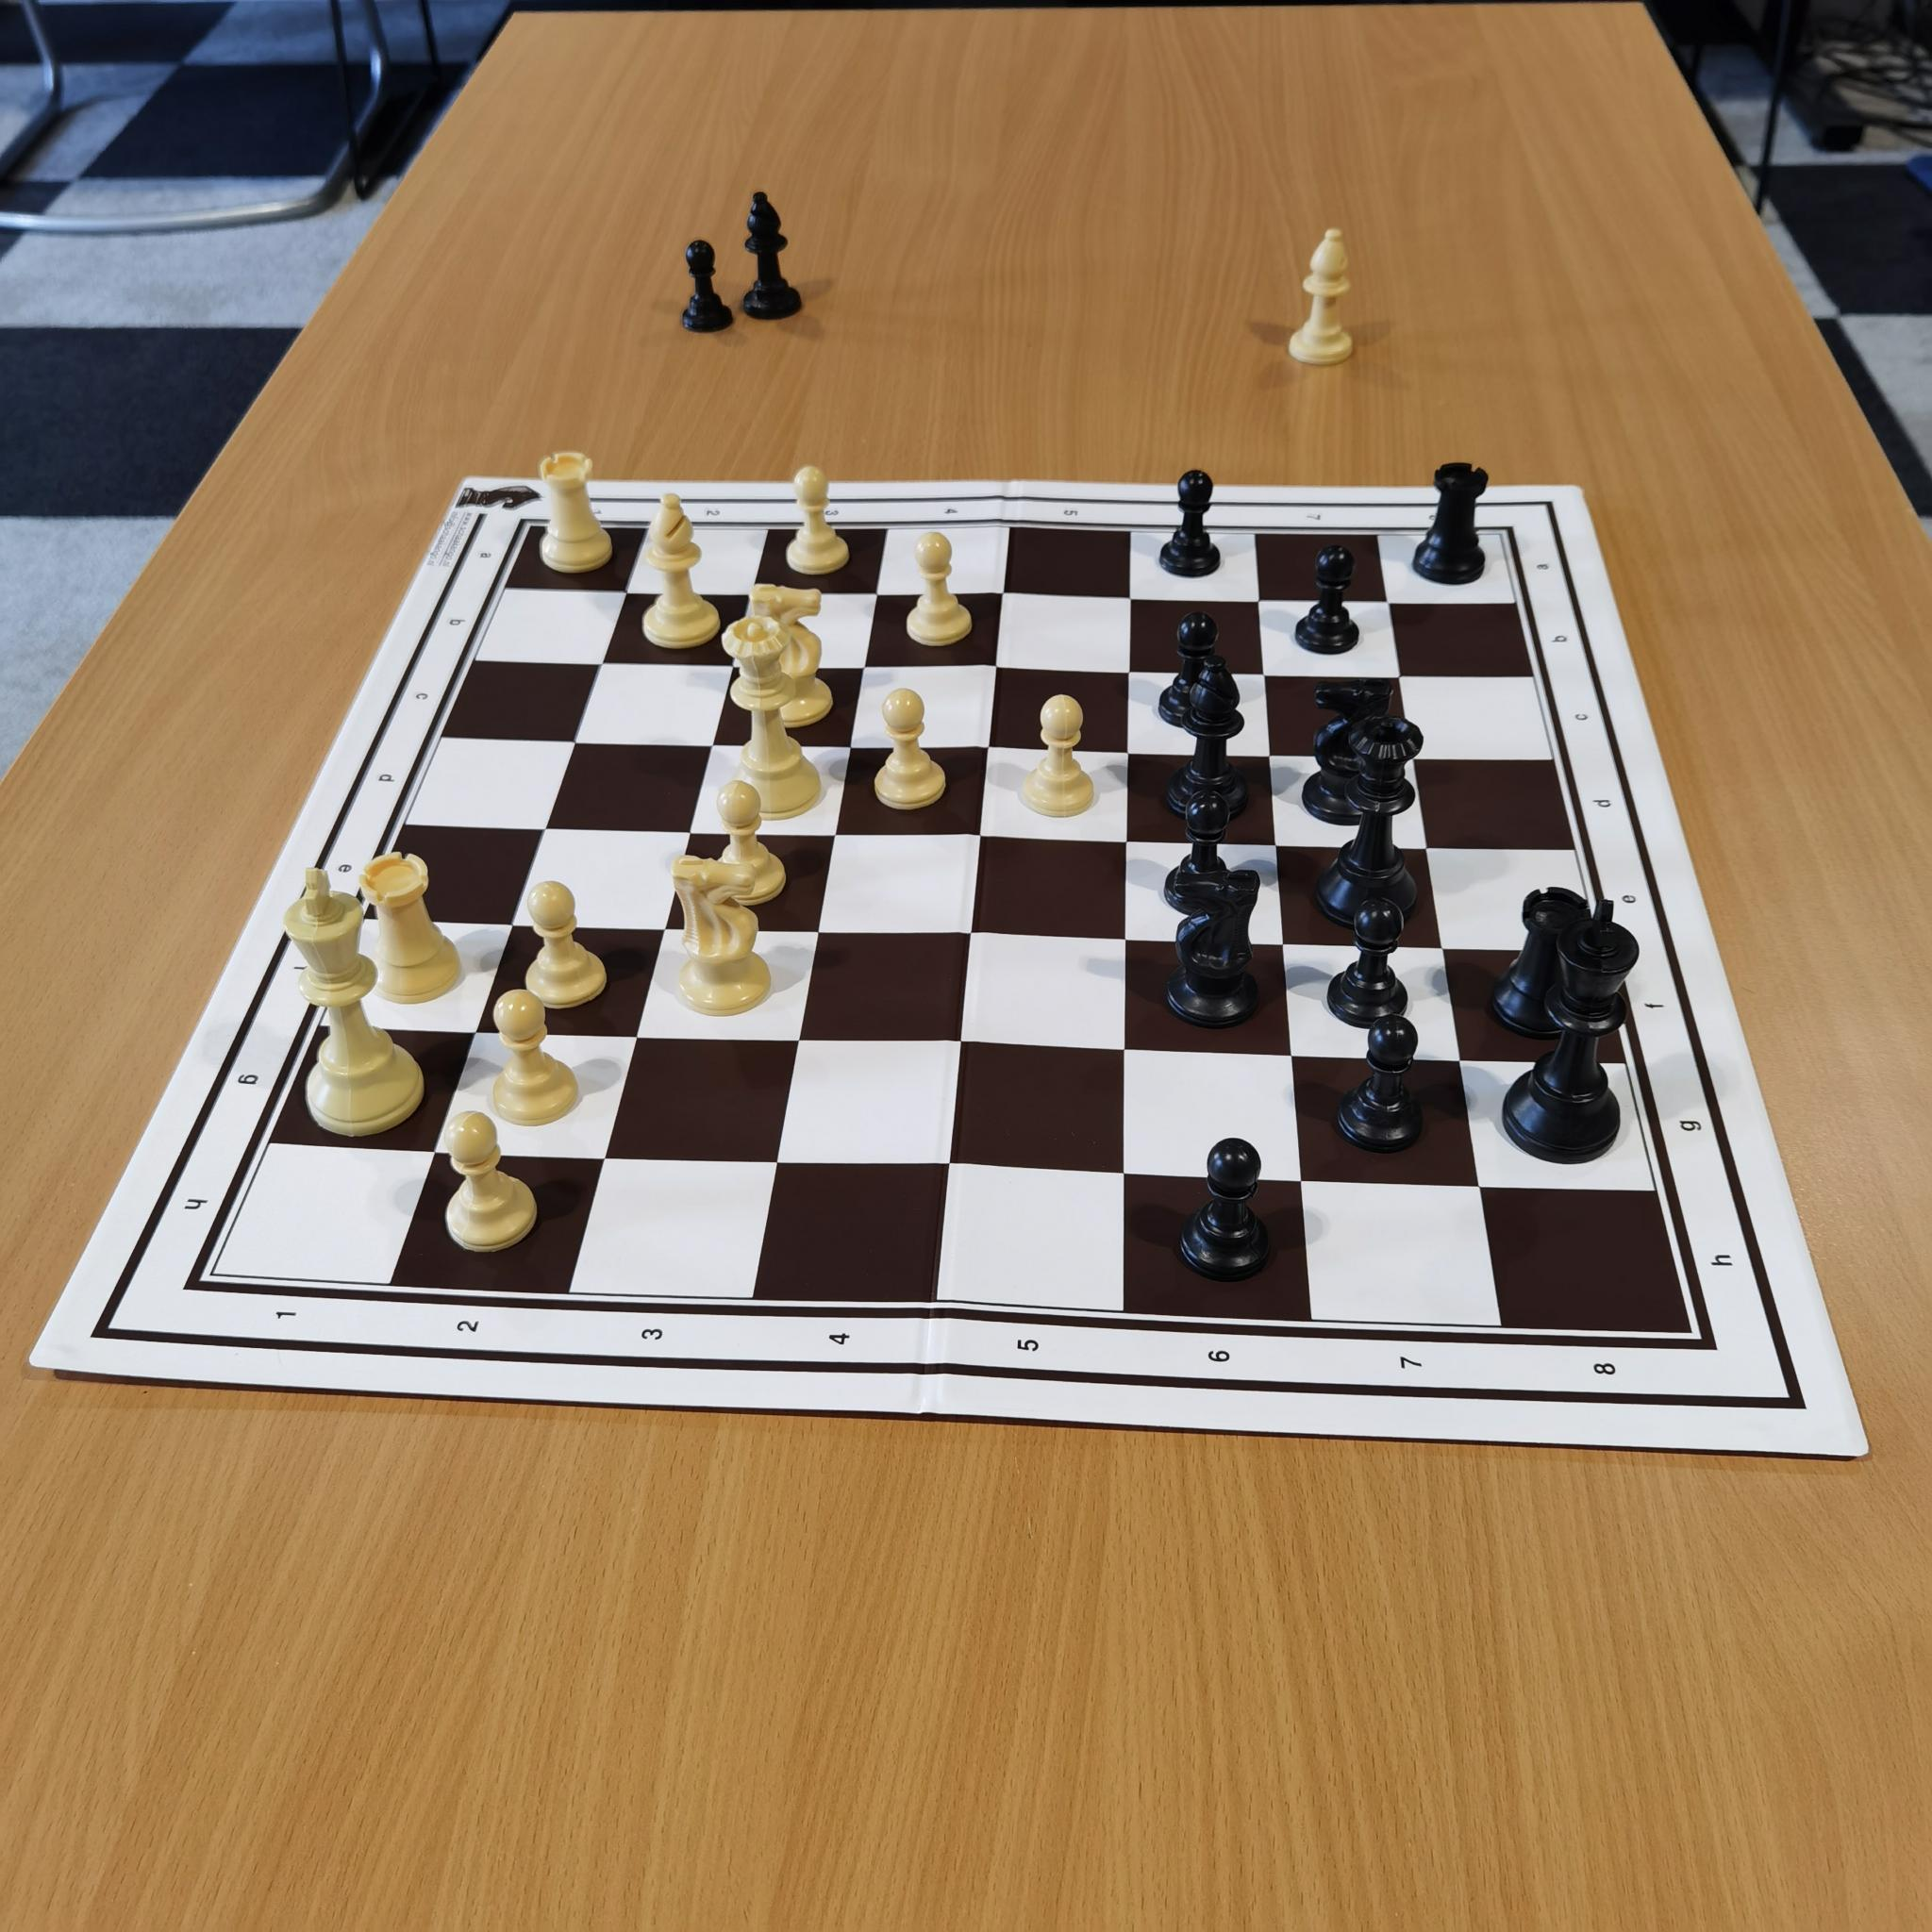corners: (1656, 1299, 1720, 1361), (188, 1244, 242, 1302), (510, 511, 550, 550), (1488, 518, 1530, 554)
eight: (1576, 1341, 1635, 1399), (1422, 501, 1456, 538)
one: (267, 1284, 320, 1338), (584, 494, 617, 533)
